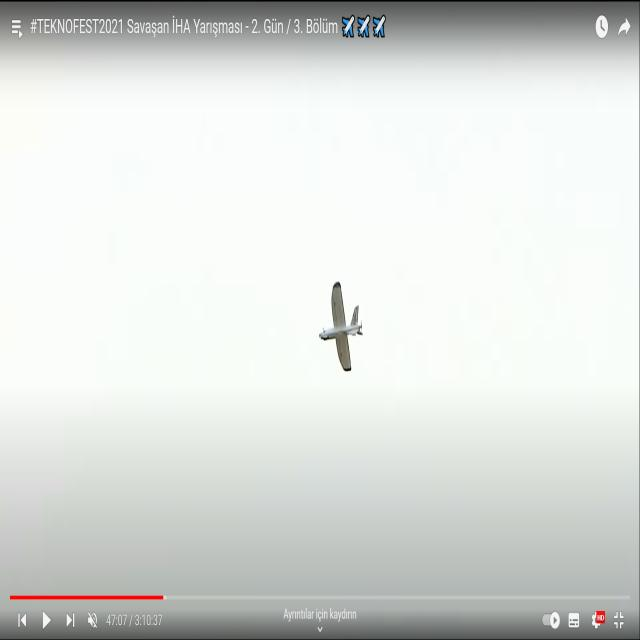iha: (318, 306, 363, 334)
